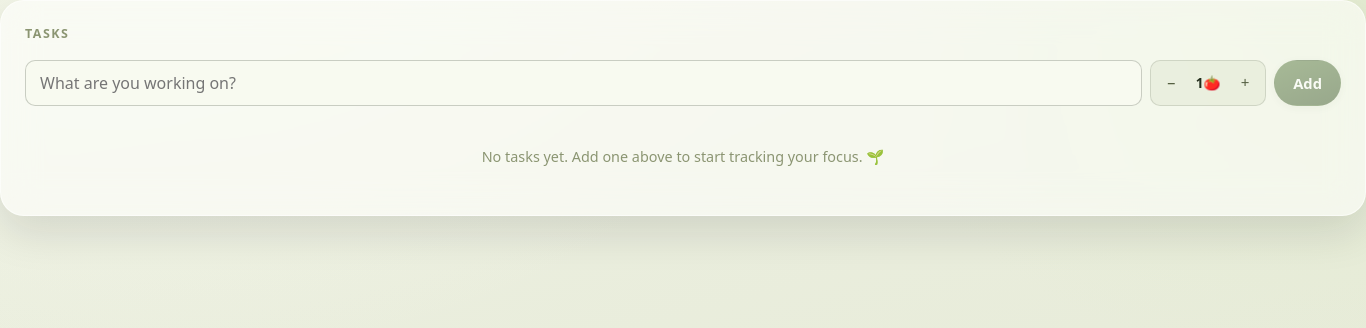
TaskList › adjusts the estimate before adding
This screenshot has width=1366, height=328.
Click the button named "Increase estimate" at [1245, 83], box [1231,69,1259,97]
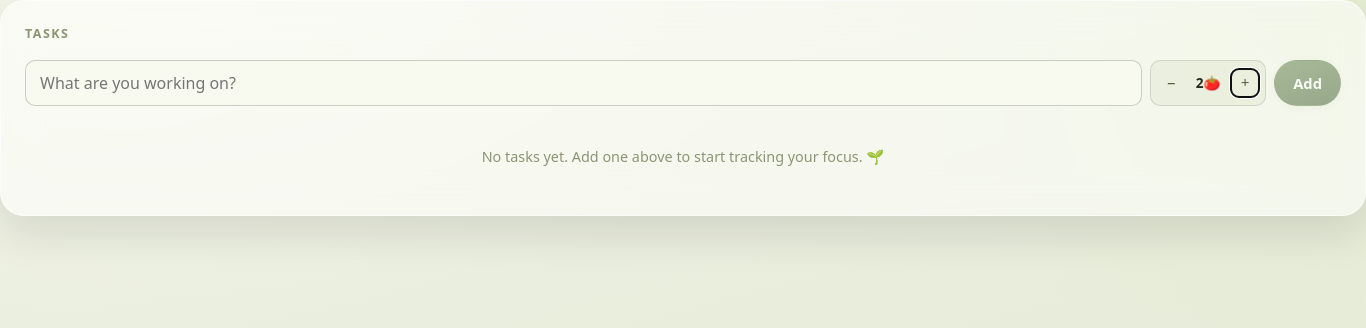
Check: the text "2🍅" is shown, box [1196,72,1221,92]
Click the button named "Decrease estimate" at [1171, 83], box [1157,69,1185,97]
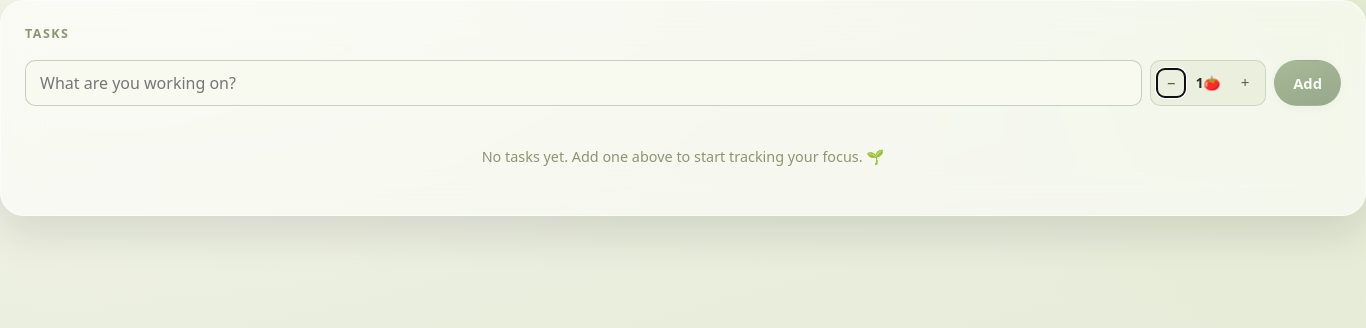
Check: the text "1🍅" is shown, box [1196,72,1221,92]
